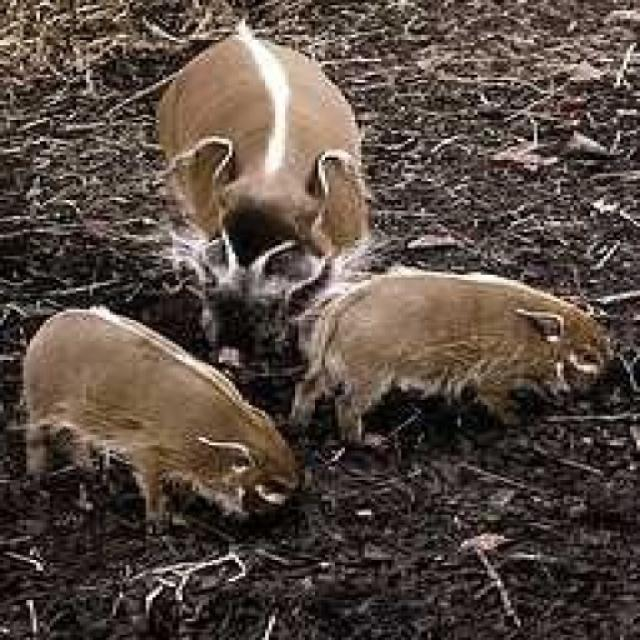pig: (0, 257, 282, 580), (283, 278, 629, 470), (178, 13, 350, 298)
